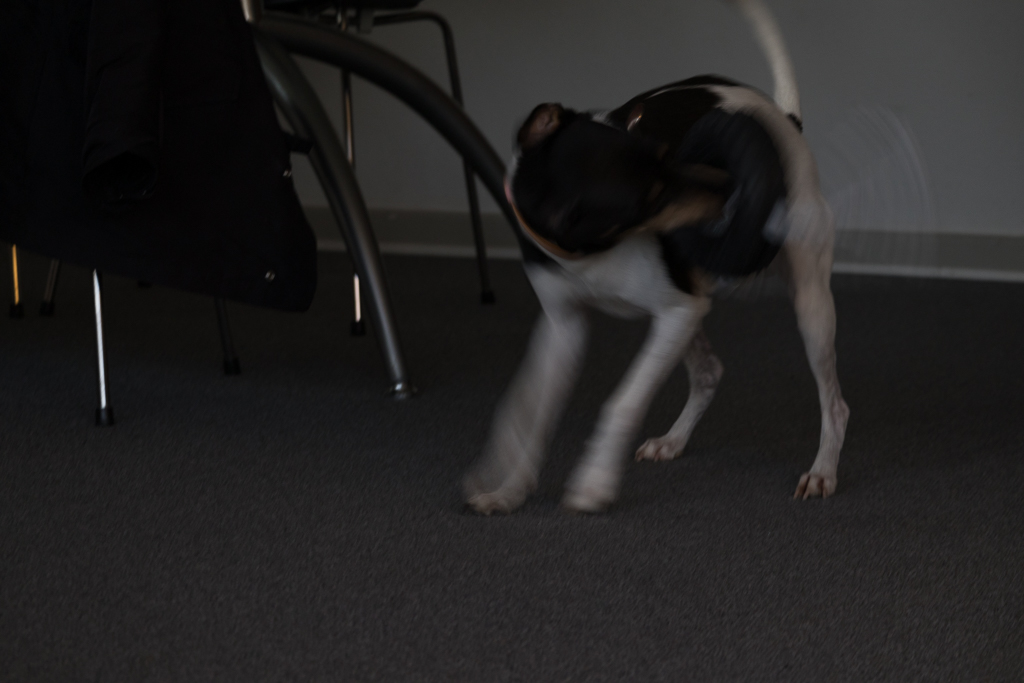Dog: (437, 0, 864, 529)
